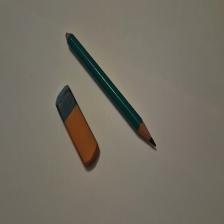eraser: (57, 85, 101, 167)
pencil: (67, 33, 158, 148)
